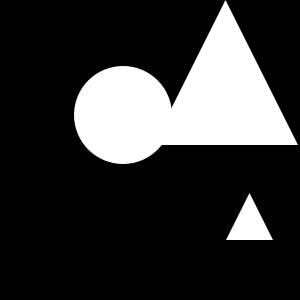rectangle: (74, 66, 172, 164)
triangle: (153, 0, 298, 145), (226, 193, 273, 240)
